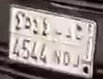4: (11, 12, 23, 59), (39, 16, 49, 64), (30, 18, 40, 61)
5: (22, 16, 32, 61)
D: (62, 26, 74, 68)
J: (72, 23, 84, 69)
N: (53, 28, 63, 65)
